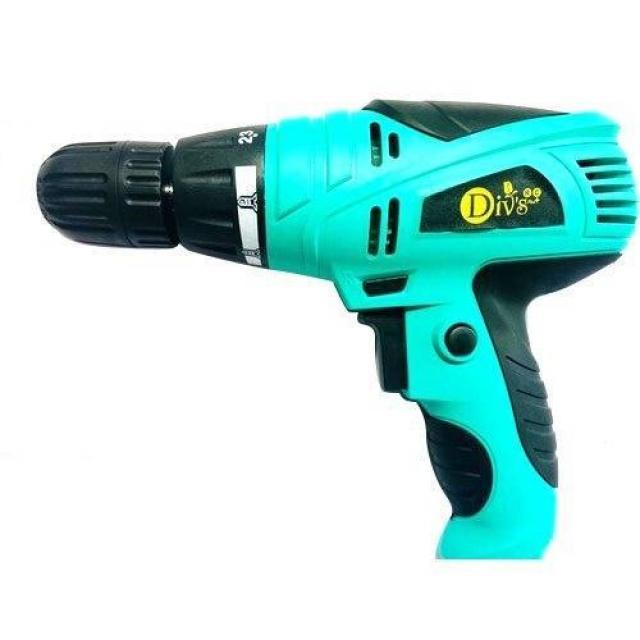drill: (37, 99, 640, 561)
